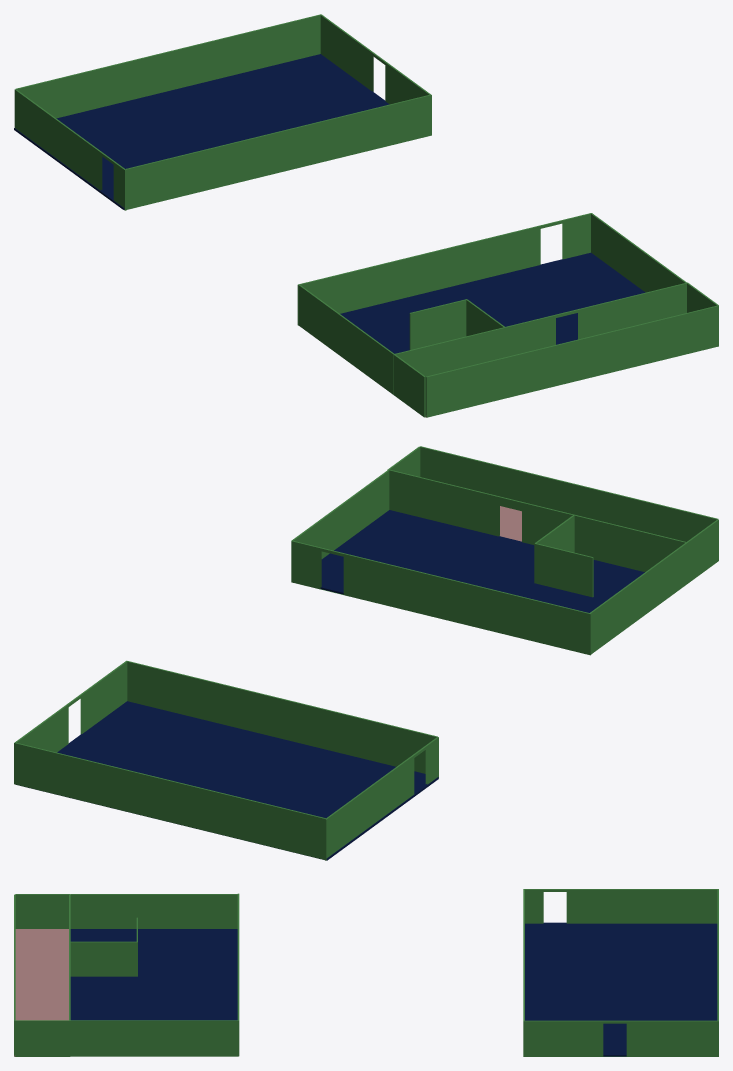
File: Nivel3olas.FBX
3 renders of one model, top to bottom at view 1: azimuth 30°, elevation 25°; view 2: azimuth 150°, elevation 25°; view 3: azimuth 270°, elevation 25°, orthographic. The views are drawn at different scales.
Parts seen in each view (by area): view 1: pCube7, pCube2, pCube15, pCube3, pCube1, pCube9, pCube11, pCube6, pCube8, pCube4, pCube10, pCube13 (+2 smaller); view 2: pCube7, pCube3, pCube1, pCube2, pCube9, pCube11, pCube15, pCube6, pCube8, pCube4, pCube10, pCube13 (+3 smaller); view 3: pCube7, pCube1, pCube4, pCube10, pCube6, pCube8, pCube14, pCube12, pCube17, pCube16, pCube9, pCube15 (+1 smaller).
Part boxes in pixels (left/top/right/bottom): pCube7: left=14, top=54, right=389, bottom=209; pCube2: left=125, top=95, right=430, bottom=209; pCube15: left=425, top=305, right=718, bottom=417; pCube3: left=16, top=14, right=320, bottom=118; pCube1: left=340, top=252, right=645, bottom=353; pCube9: left=297, top=213, right=590, bottom=325; pCube11: left=394, top=282, right=687, bottom=376; pCube6: left=14, top=89, right=126, bottom=210; pCube8: left=298, top=285, right=394, bottom=394; pCube4: left=320, top=14, right=431, bottom=135; pCube10: left=591, top=213, right=686, bottom=292; pCube13: left=409, top=299, right=466, bottom=349; pCube7: left=16, top=701, right=438, bottom=860; pCube3: left=15, top=742, right=326, bottom=859; pCube1: left=320, top=510, right=644, bottom=612; pCube2: left=127, top=661, right=437, bottom=773; pCube9: left=291, top=540, right=591, bottom=655; pCube11: left=388, top=469, right=686, bottom=571; pCube15: left=420, top=446, right=718, bottom=541; pCube6: left=325, top=737, right=438, bottom=860; pCube8: left=589, top=543, right=687, bottom=653; pCube4: left=14, top=660, right=127, bottom=784; pCube10: left=291, top=470, right=389, bottom=558; pCube13: left=534, top=543, right=593, bottom=597; pCube7: left=525, top=922, right=717, bottom=1056; pCube1: left=70, top=929, right=237, bottom=1020; pCube4: left=523, top=1020, right=718, bottom=1056; pCube10: left=70, top=1020, right=238, bottom=1056; pCube6: left=525, top=889, right=717, bottom=923; pCube8: left=70, top=894, right=237, bottom=928; pCube14: left=14, top=929, right=68, bottom=1056; pCube12: left=70, top=941, right=137, bottom=976; pCube17: left=15, top=1020, right=70, bottom=1056; pCube16: left=15, top=894, right=69, bottom=928; pCube9: left=237, top=893, right=239, bottom=1055; pCube15: left=14, top=894, right=15, bottom=1056.
Bounding box in the file's own units: 1713 × 217 × 3846.
